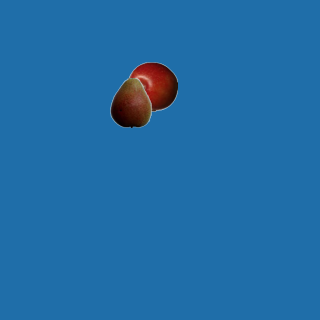Apple Braeburn: (127, 61, 177, 111)
Pear Forelle: (105, 77, 155, 127)
